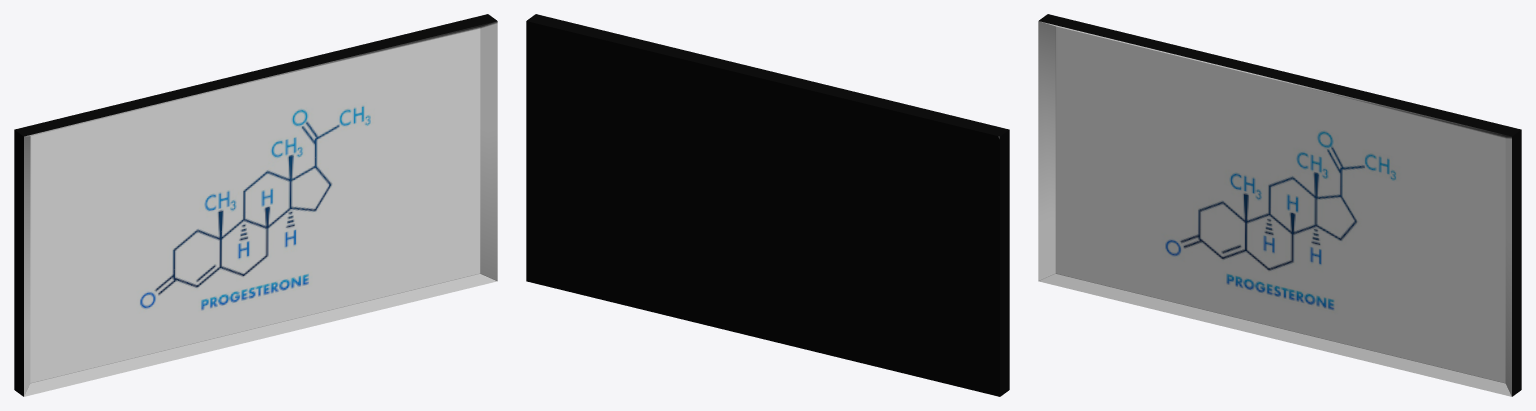
File: board 4.fbx
The picture shows the model from 3 angles, left to right: view 1: azimuth 30°, elevation 25°; view 2: azimuth 150°, elevation 25°; view 3: azimuth 330°, elevation 25°; orthographic projection.
Parts seen in each view (by area): view 1: board4; view 2: board4; view 3: board4.
Part boxes in pixels (<box>): board4: <box>14,14,497,396</box>; board4: <box>526,14,1009,396</box>; board4: <box>1038,14,1521,396</box>.
Size of the model in its own units: 133 by 69.64 by 4.64.
1 material, 1 textured.
